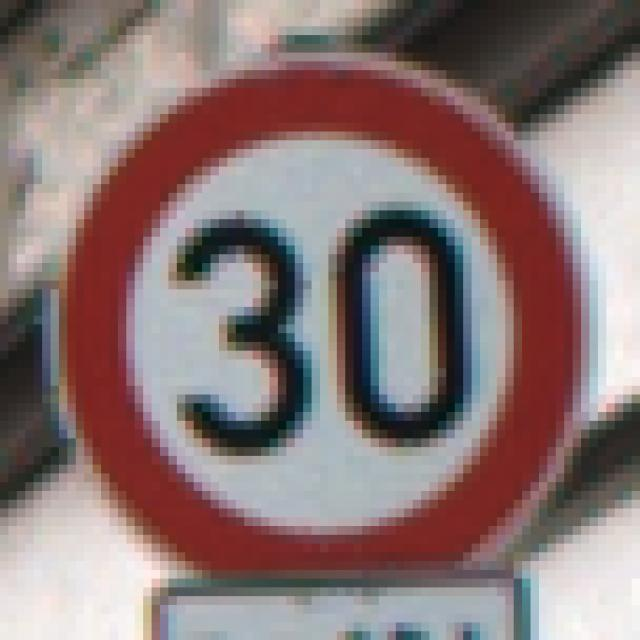Speed Limit -30-: (47, 48, 586, 574)
